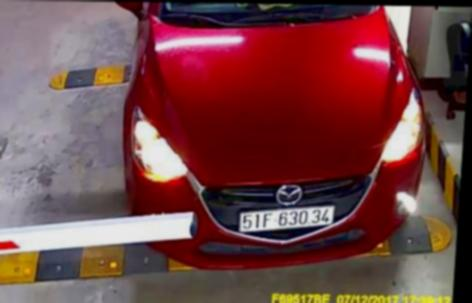License_Plate: (234, 207, 336, 238)
